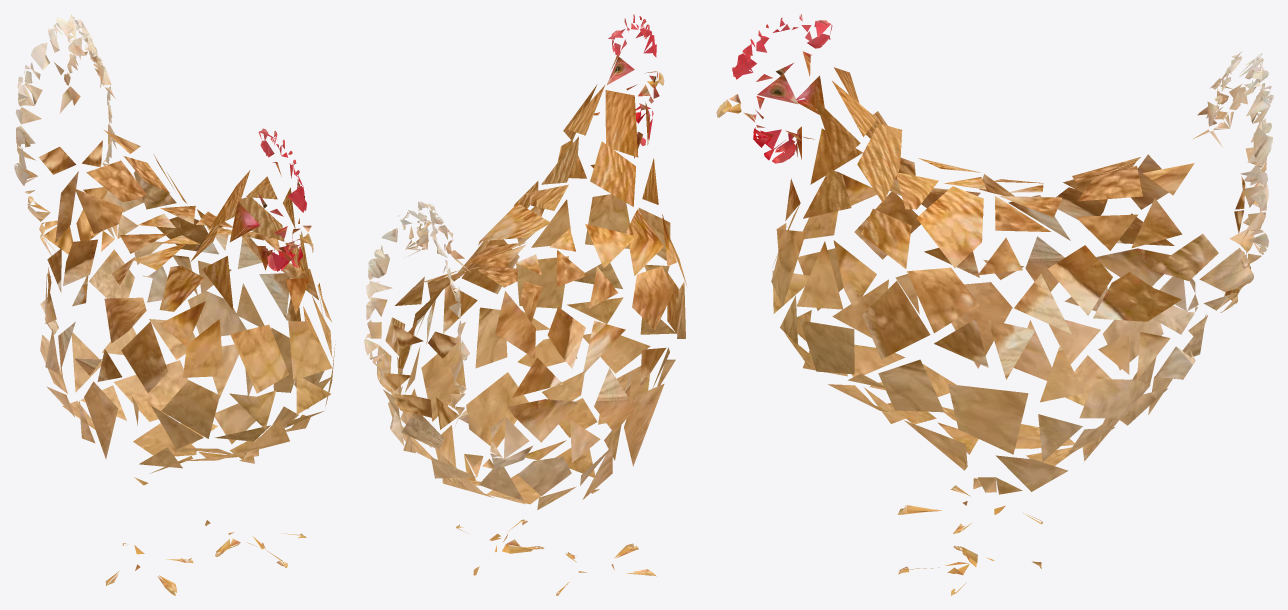
The model's file is hen.glb.
The picture shows the model from 3 angles, left to right: view 1: azimuth 30°, elevation 25°; view 2: azimuth 150°, elevation 25°; view 3: azimuth 270°, elevation 25°; orthographic projection. The views are drawn at different scales.
Parts seen in each view (by area): view 1: Mesh_0; view 2: Mesh_0; view 3: Mesh_0.
Part boxes in pixels (left/top/right/bottom): Mesh_0: left=14, top=14, right=335, bottom=595; Mesh_0: left=364, top=14, right=686, bottom=595; Mesh_0: left=716, top=14, right=1273, bottom=595.
Size of the model in its own units: 0.1866 by 0.3994 by 0.3785.
Materials: 1 (1 with a texture image).
